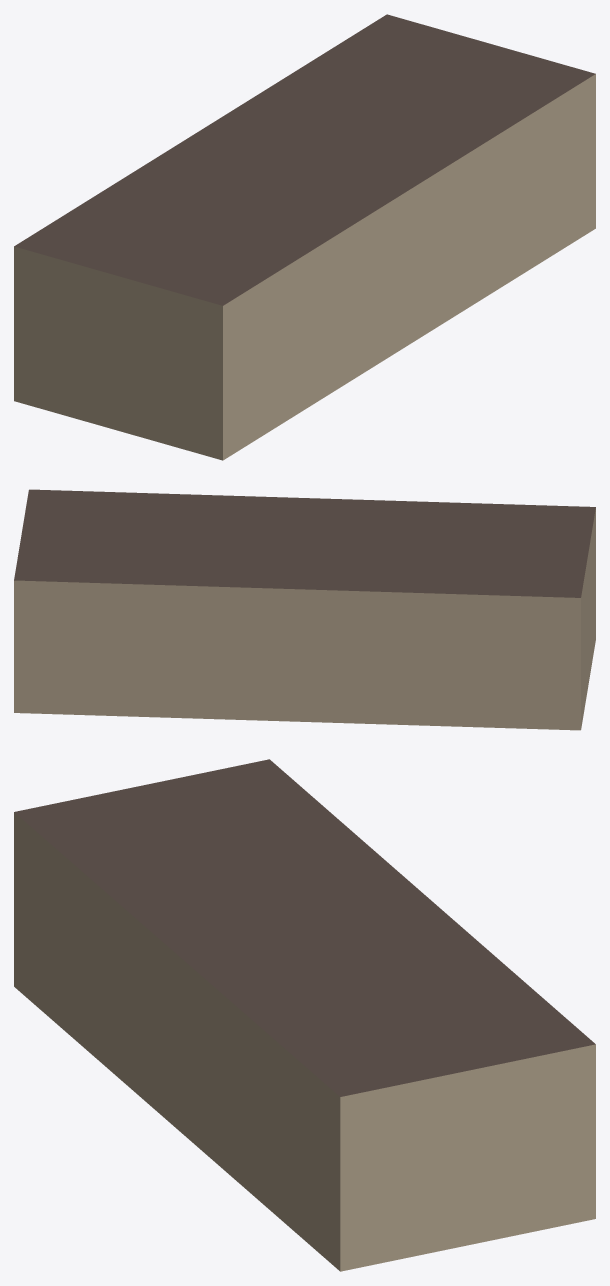
The picture shows the model from 3 angles, top to bottom: view 1: azimuth 30°, elevation 25°; view 2: azimuth 150°, elevation 25°; view 3: azimuth 270°, elevation 25°; orthographic projection. The views are drawn at different scales.
Parts seen in each view (by area): view 1: HP-w693448963; view 2: HP-w693448963; view 3: HP-w693448963.
Part boxes in pixels (x1,y1,x2,y2): HP-w693448963: (14,14,595,460); HP-w693448963: (14,489,595,730); HP-w693448963: (14,759,595,1271).
Size of the model in its own units: 37.34 by 9 by 27.19.
